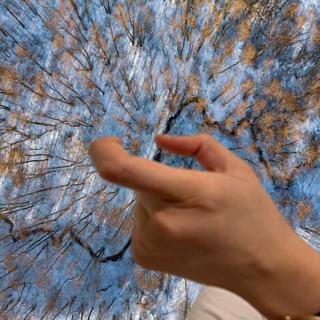HATE: (77, 127, 301, 296)
